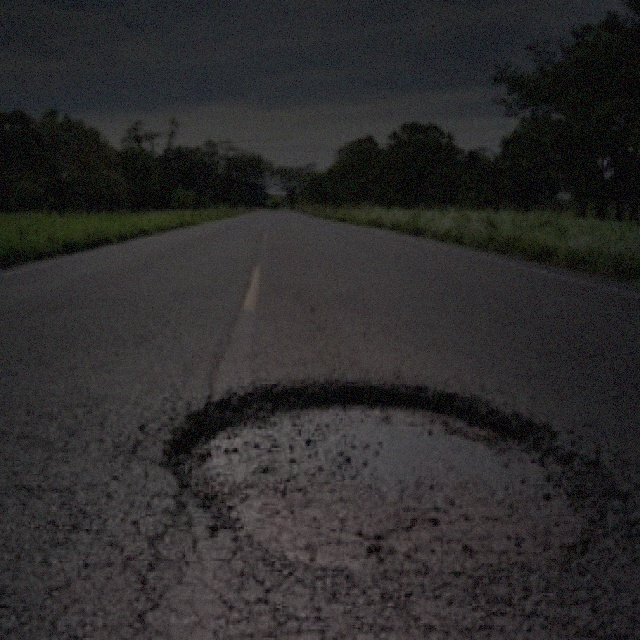pothole: (158, 375, 632, 604)
